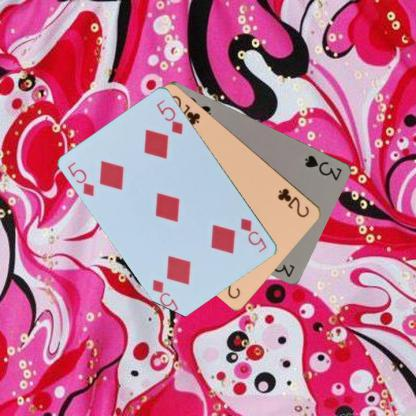2c: (275, 185, 311, 219)
3s: (301, 153, 344, 182)
5d: (65, 160, 96, 198), (238, 216, 268, 254)
